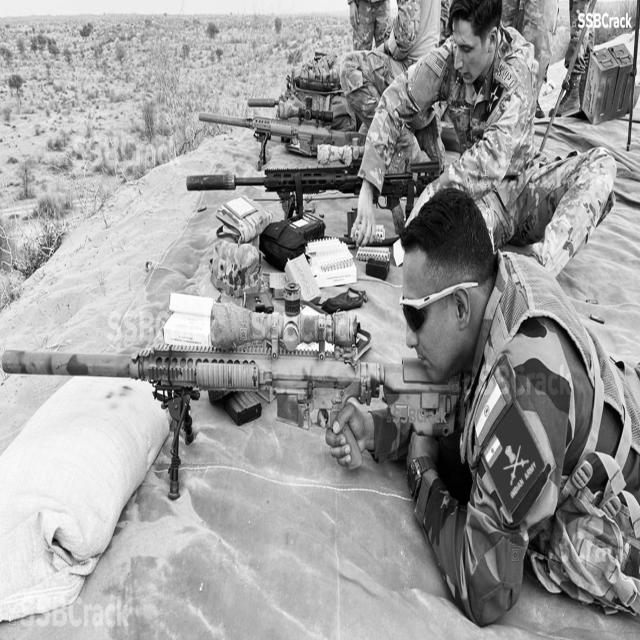Weapon: (3, 305, 462, 497), (187, 165, 363, 220)
